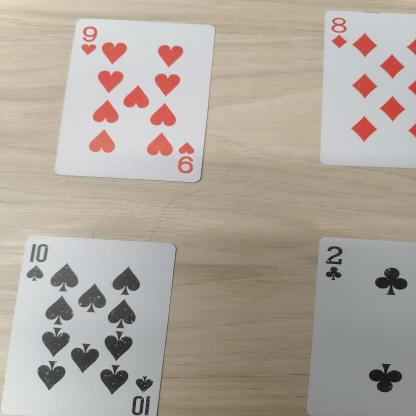10S: (17, 241, 56, 288)
2C: (322, 244, 348, 282)
8D: (332, 14, 358, 54)
9H: (65, 22, 106, 64)
